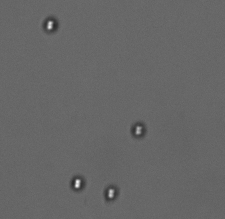Living Cell: (38, 14, 59, 34), (68, 172, 88, 192), (130, 120, 148, 138), (102, 185, 120, 201)
